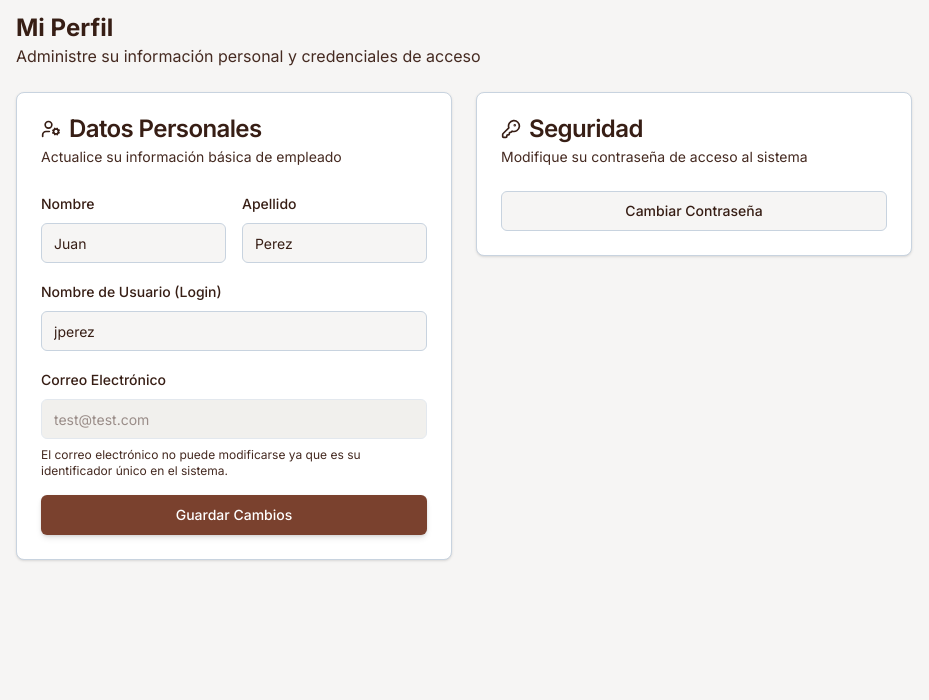
it: Perfil › muestra indicador de contraseñas no coinciden
Click the button "Cambiar Contraseña".
click(694, 211)  # box [501,191,887,231]
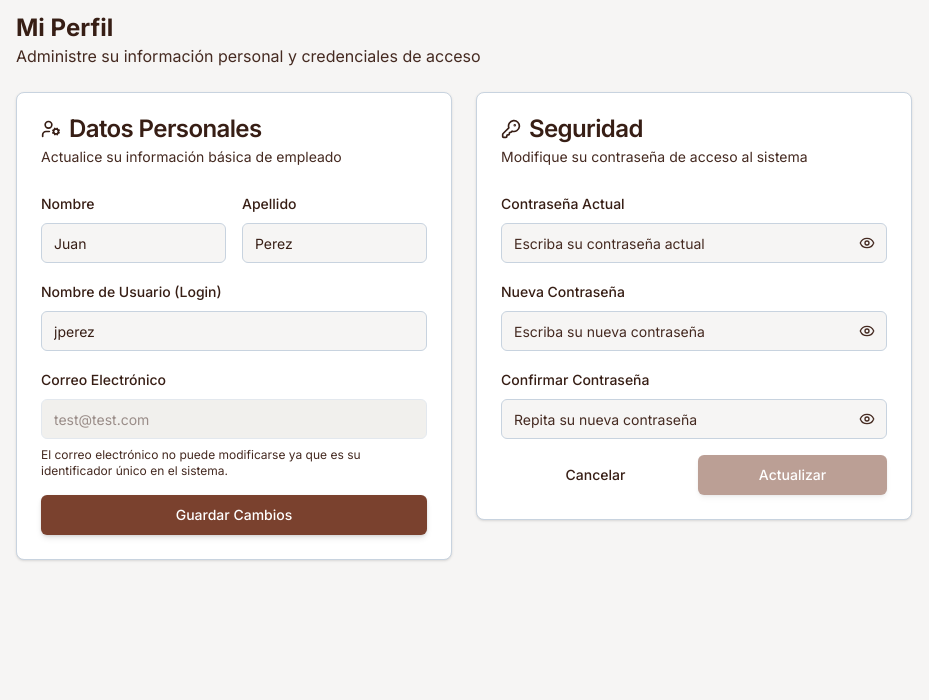
Type "Test1234!" into the password field with placeholder "Escriba su nueva contraseña".
click(694, 331); type("Test1234!")  # box [501,311,887,351]
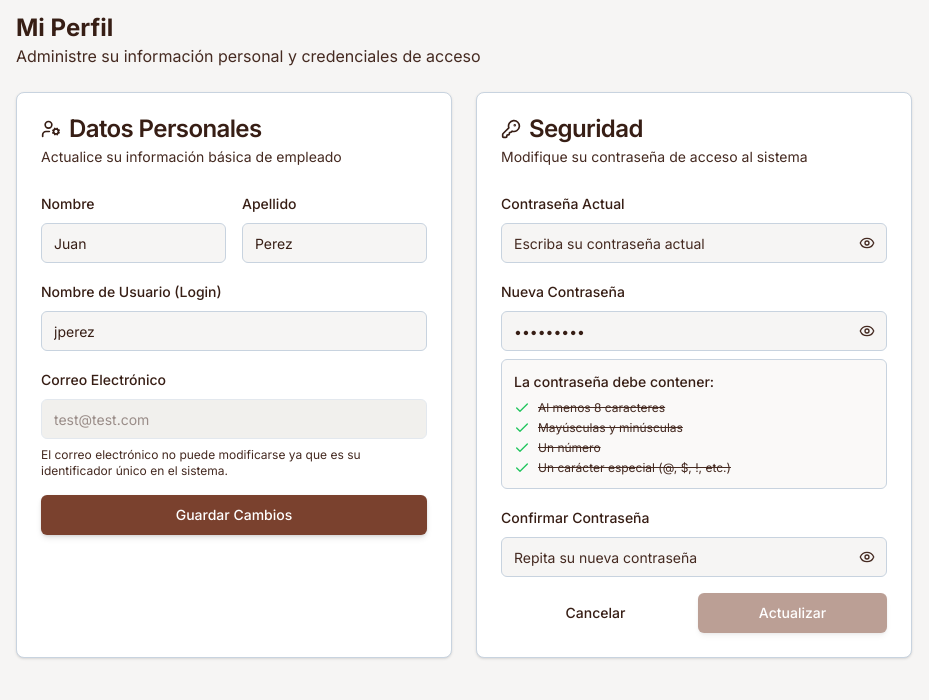
Type "Diferente1!" into the password field with placeholder "Repita su nueva contraseña".
click(694, 557); type("Diferente1!")  # box [501,537,887,577]
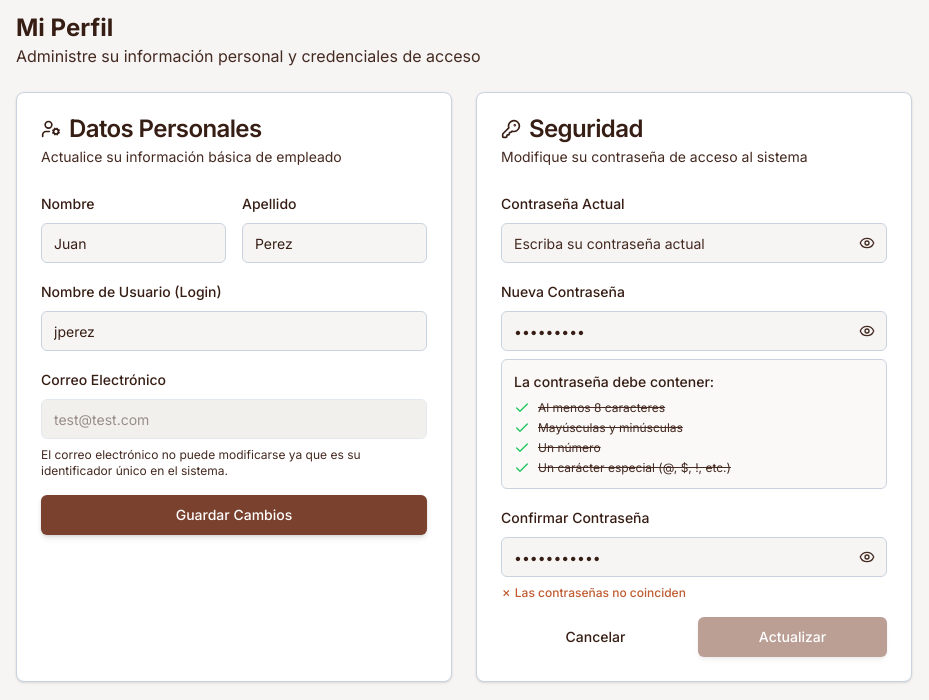
Check: the text "✗ Las contraseñas no coinciden" is shown, box [501,585,686,600]
